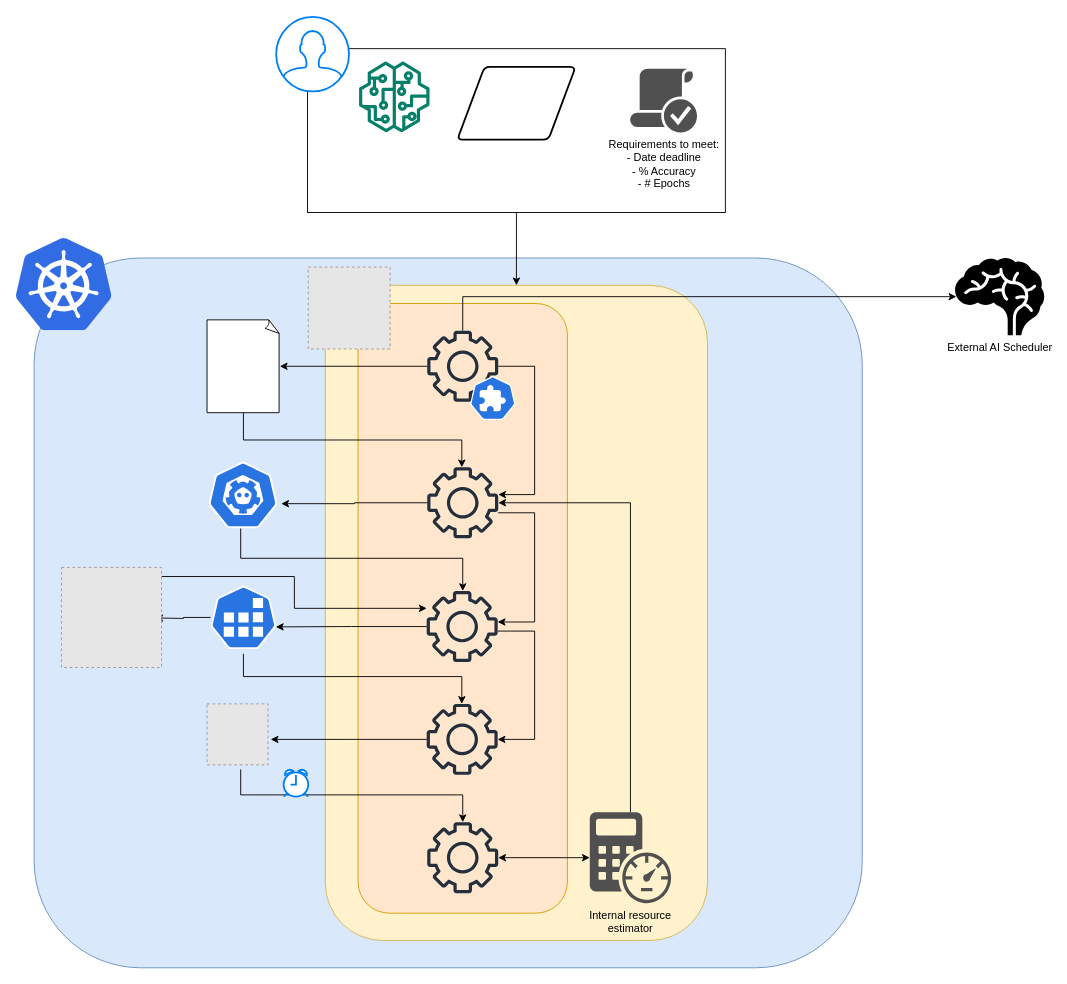
Image size: 1067x984. Some labels were removed from this diagram. Grey dashed boxes stand in for pictures. The shapes that lost their labels are listed below. From the top down, each one's centre as x and y in pixels, then its label:
At (516,103): "Training Labelled Data".
At (243,366): "Custom Resource".
